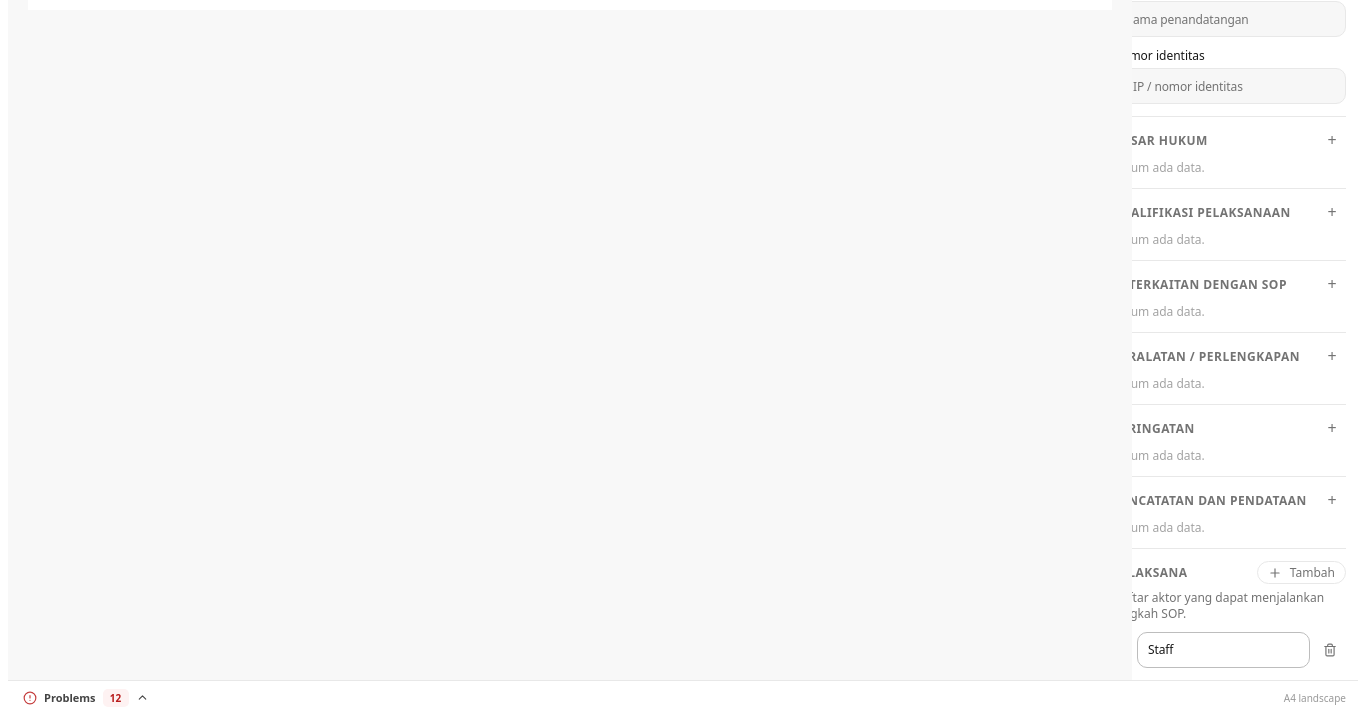
SopUnifiedWorkspace › navigates procedure issues to their selected step in Steps mode
(page scrolled)
Click the button "Problems 12". click: (86, 698)
box: [20, 684, 152, 711]
(page scrolled)
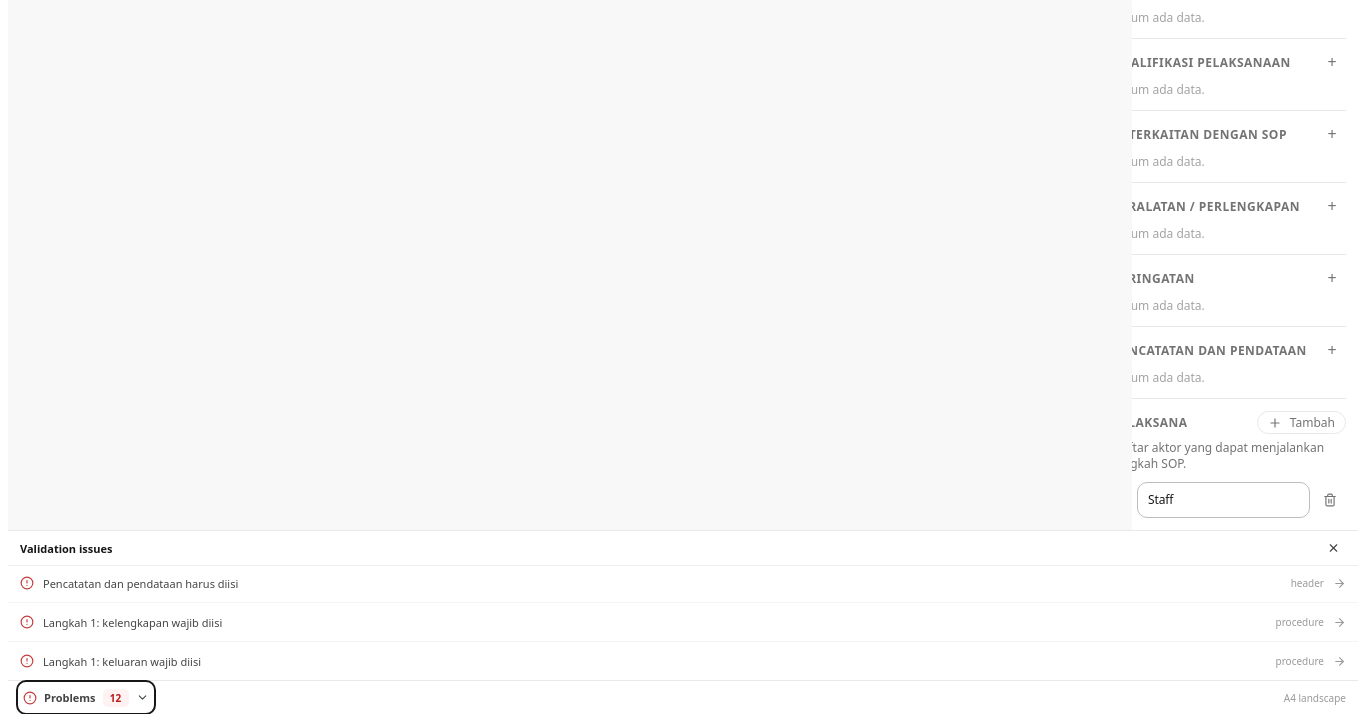
Click the button "Langkah 1: kelengkapan wajib diisi procedure". click: (133, 622)
box: [8, 603, 1358, 642]
(page scrolled)
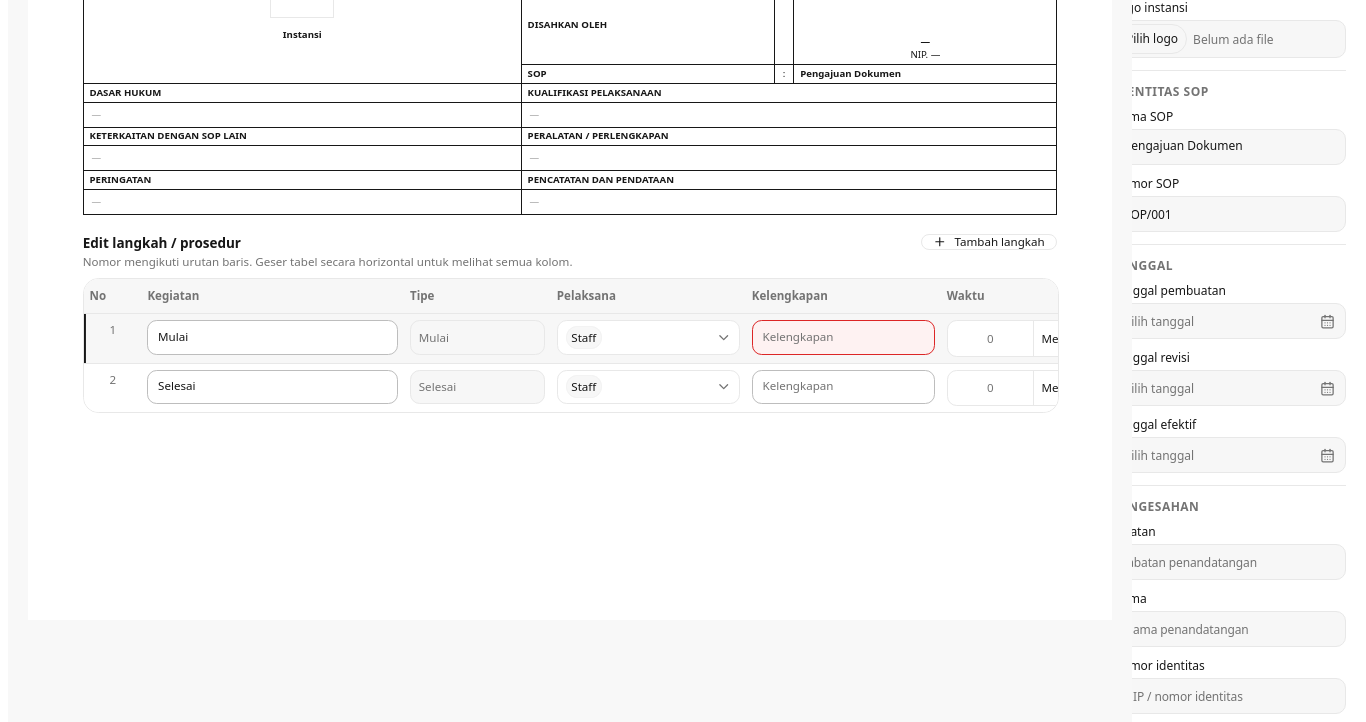
Check: the row "1 Mulai Staff Menit" is shown, box [84, 314, 1059, 363]
